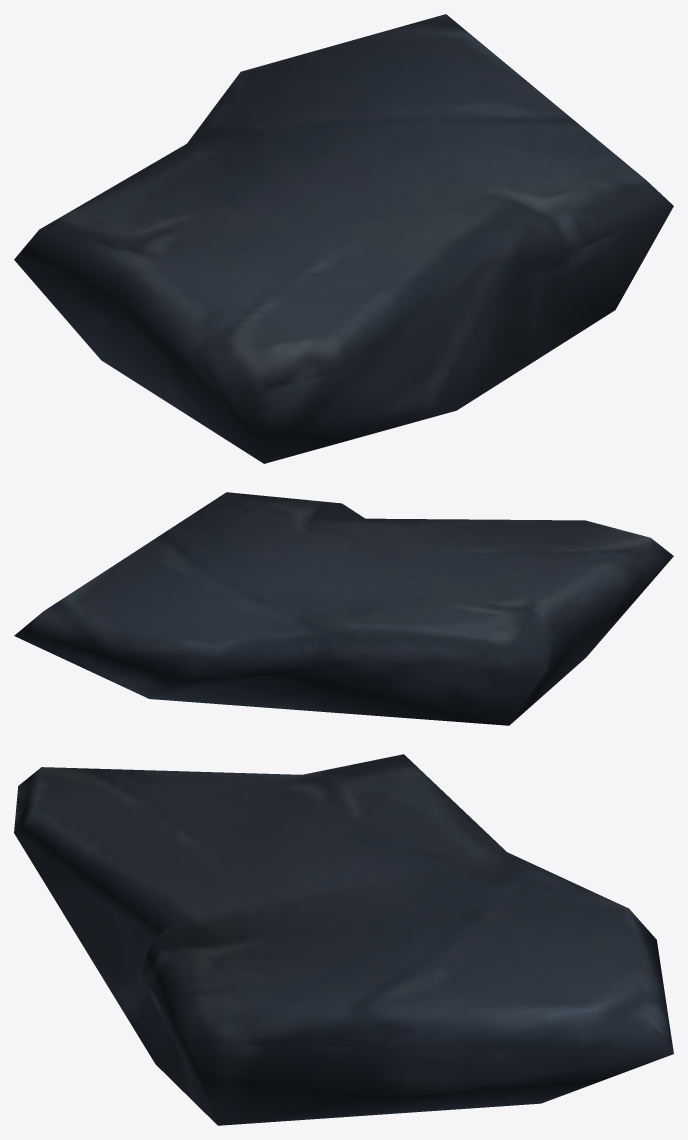
The model's file is sn_jiguan_stone_005.FBX.
3 views of the same model, one above another, from view 1: azimuth 30°, elevation 25°; view 2: azimuth 150°, elevation 25°; view 3: azimuth 270°, elevation 25° (orthographic). The views are drawn at different scales.
Parts seen in each view (by area): view 1: sn_jiguan_stone_005; view 2: sn_jiguan_stone_005; view 3: sn_jiguan_stone_005.
Boxes of the visible parts, bbox=[...] form: sn_jiguan_stone_005: bbox=[14, 14, 673, 463]; sn_jiguan_stone_005: bbox=[14, 492, 673, 725]; sn_jiguan_stone_005: bbox=[14, 754, 673, 1125].
Bounding box in the file's own units: 190 × 51.81 × 188.
